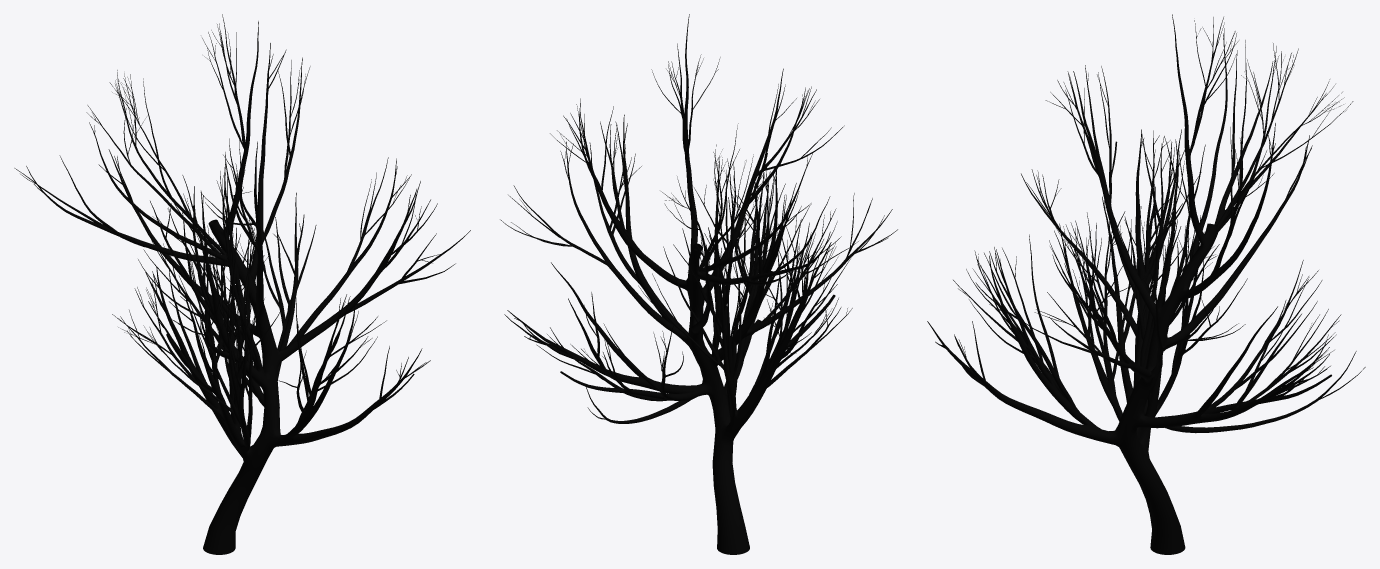
File: Boom6.fbx
3 views of the same model, side by side, from view 1: azimuth 30°, elevation 25°; view 2: azimuth 150°, elevation 25°; view 3: azimuth 270°, elevation 25° (orthographic). The views are drawn at different scales.
Parts seen in each view (by area): view 1: tree.018; view 2: tree.018; view 3: tree.018.
Boxes of the visible parts, x1,y1,x2,y2 form: tree.018: [14, 14, 470, 554]; tree.018: [500, 14, 897, 554]; tree.018: [927, 14, 1365, 554].
Bounding box in the file's own units: 1251 × 1749 × 1252.
